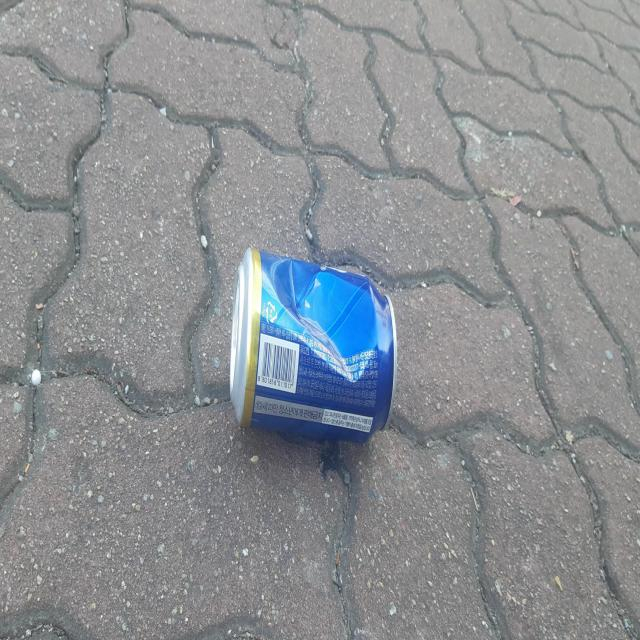can: (230, 248, 397, 441)
